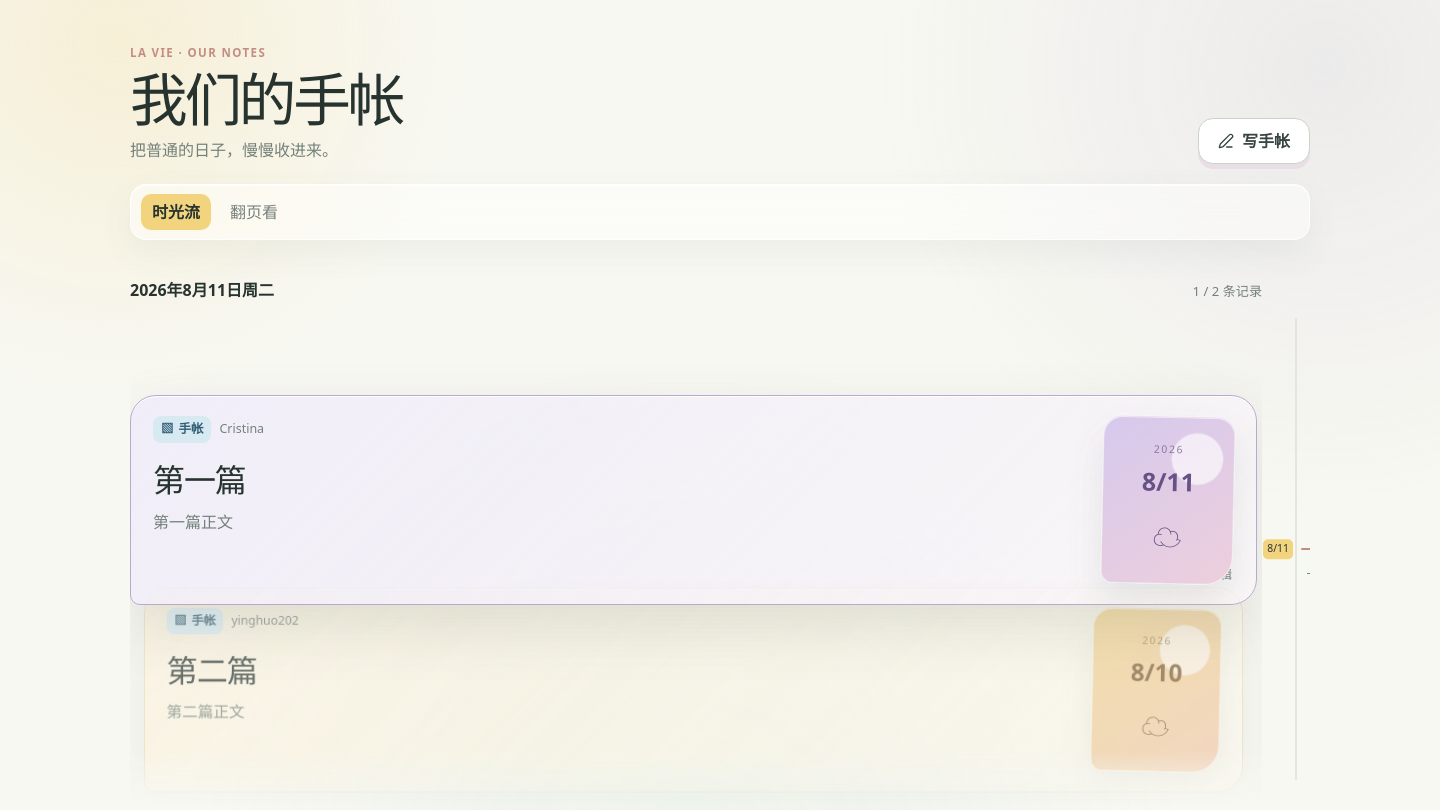
Scenario: JournalWorkspace › opens the selected journal in the reader when its stream card is clicked
Expected: the heading "第一篇" is shown, [153,458,246,501]
Click the button with aria-label "打开《第一篇》的翻页视图" at (694, 500), box [130,395,1257,605]
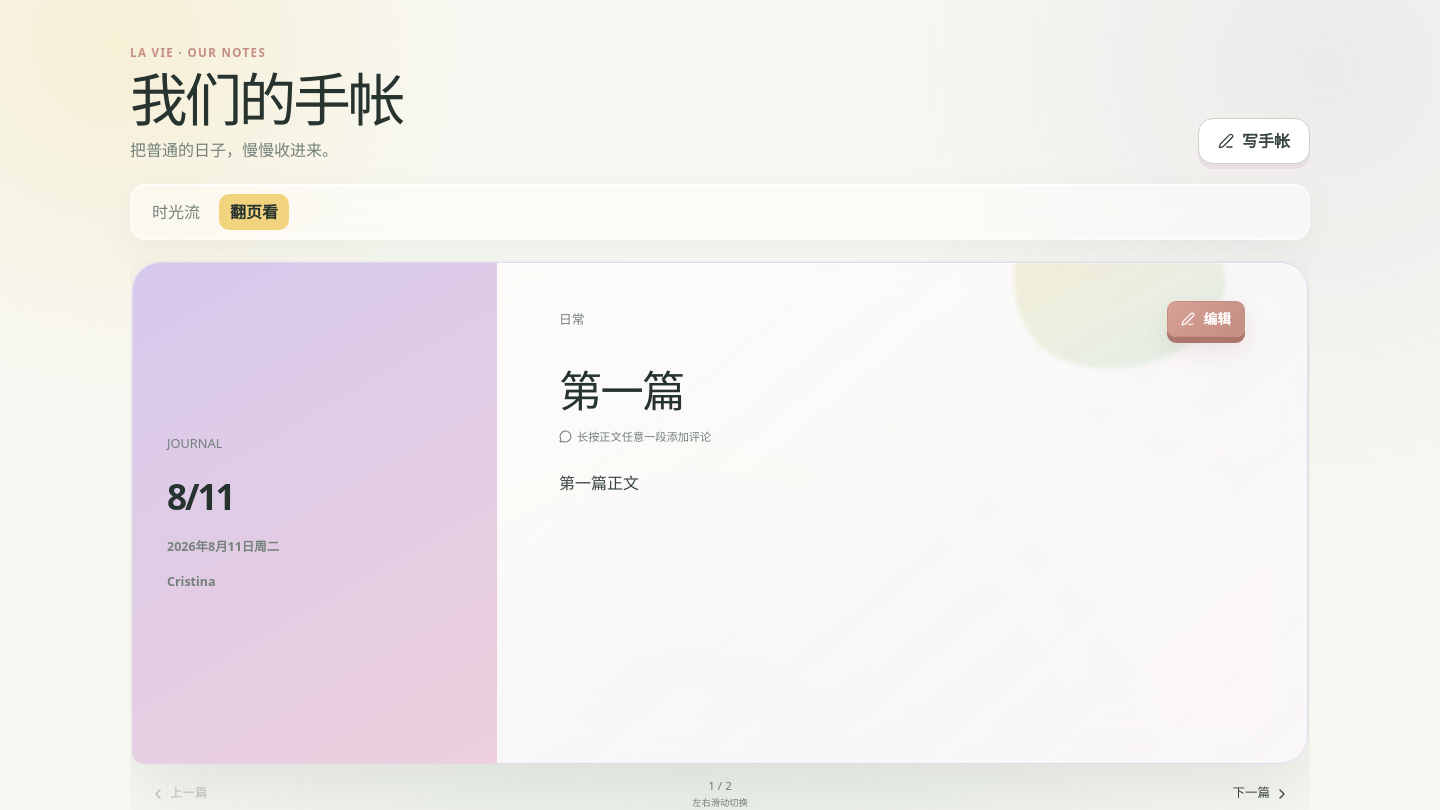
Expected: the element named "左右滑动" is shown, [132,262,1308,764]
